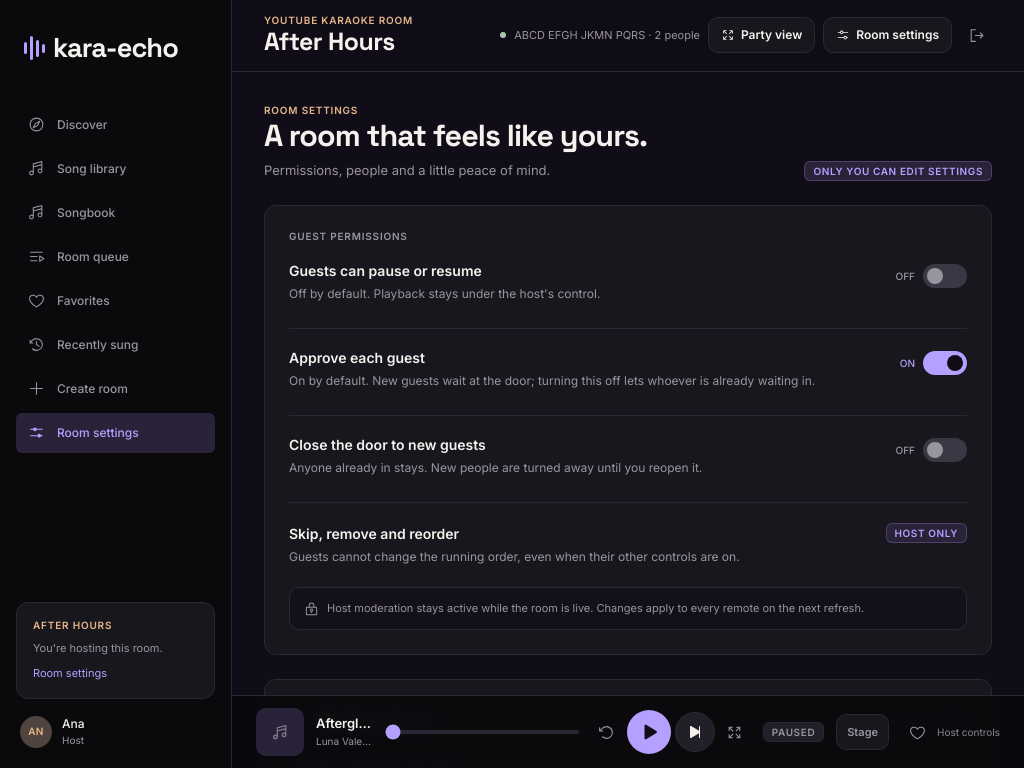
Test: host room workspace › turns approval off and says who was let in
Click the switch named "approve each guest".
click(945, 373)  # box [923,351,967,395]
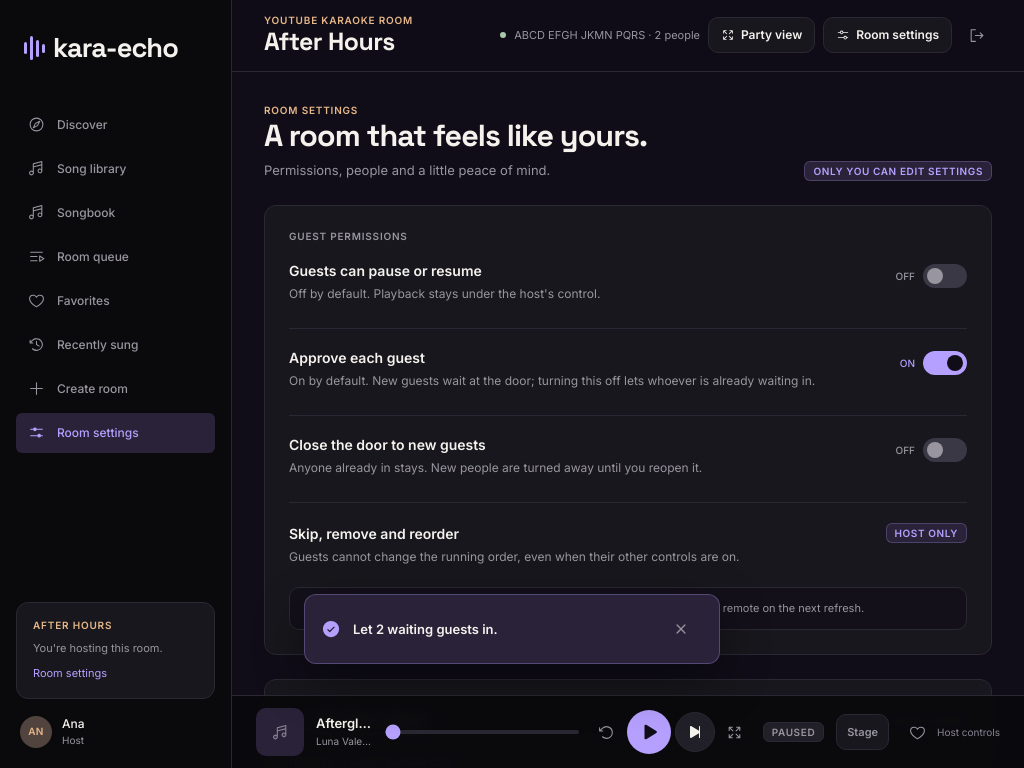
Result: the text "Let 2 waiting guests in." is shown at [353,621,498,637]
